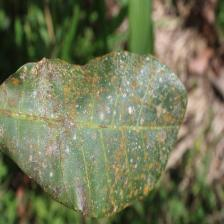red rust: (0, 50, 188, 218)
